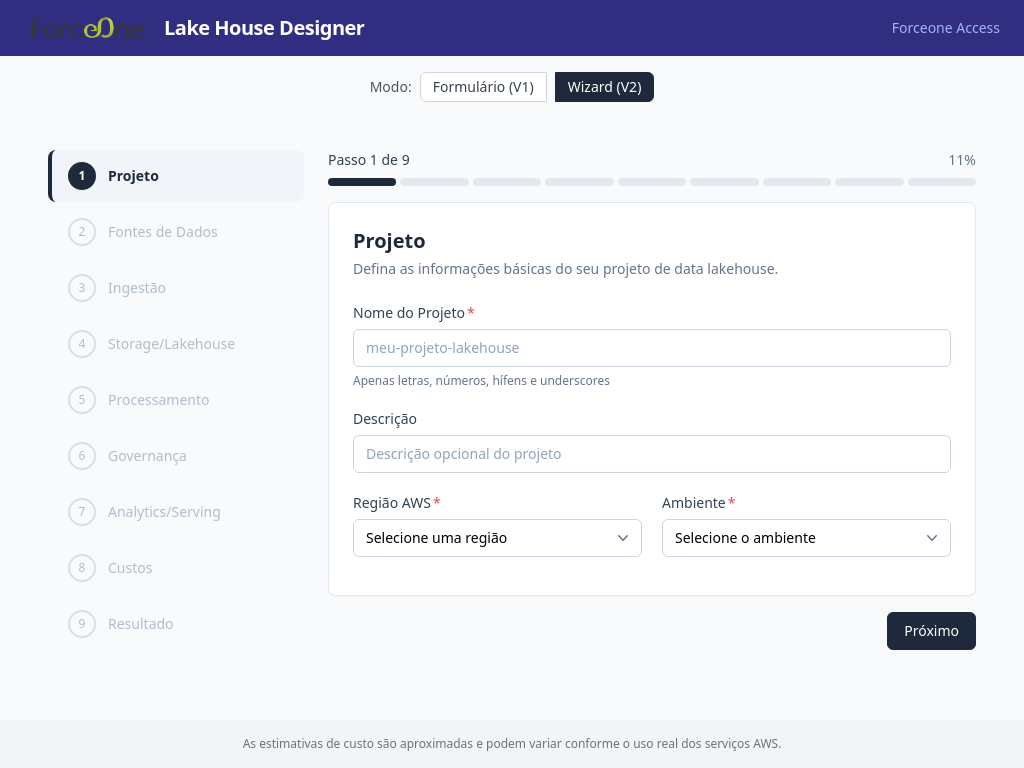
Scenario: App.tsx — Testes de Integração › exibe mensagem de erro de autorização quando API retorna 403
Note: Switch to V1 mode to access the classic form with spinbutton inputs
Click the button "Formulário (V1)" at (483, 87), box x1=420 y1=72 x2=547 y2=102
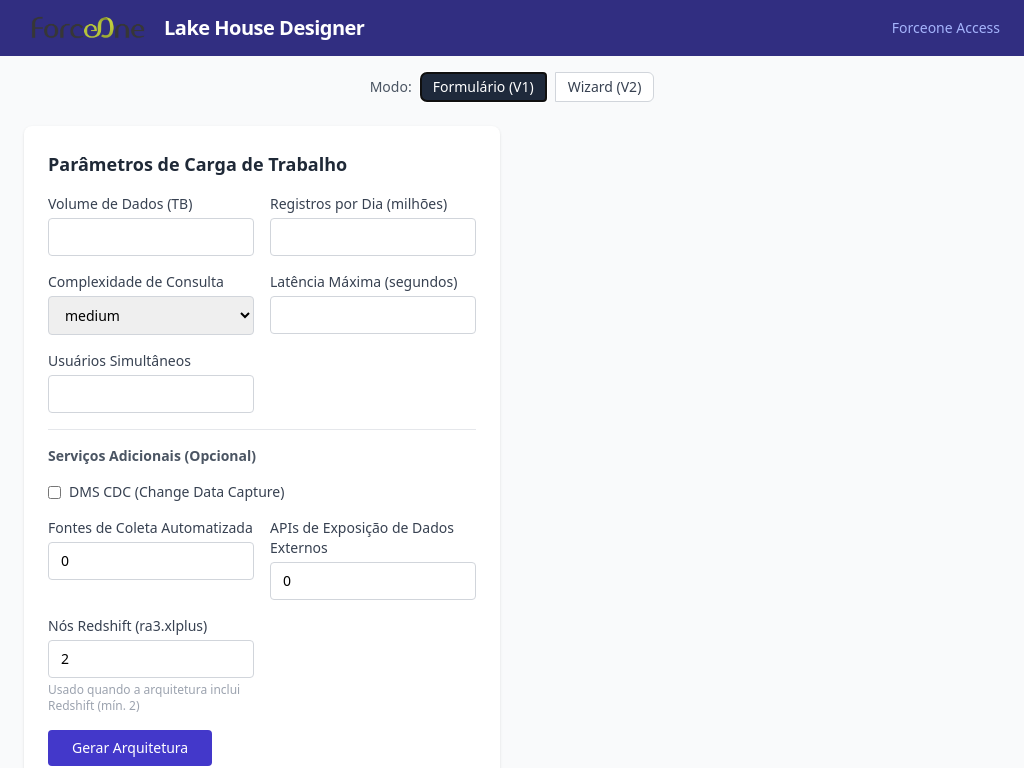
Type "10" into the number field below "Volume de Dados (TB)" at (151, 237), box x1=48 y1=218 x2=254 y2=256
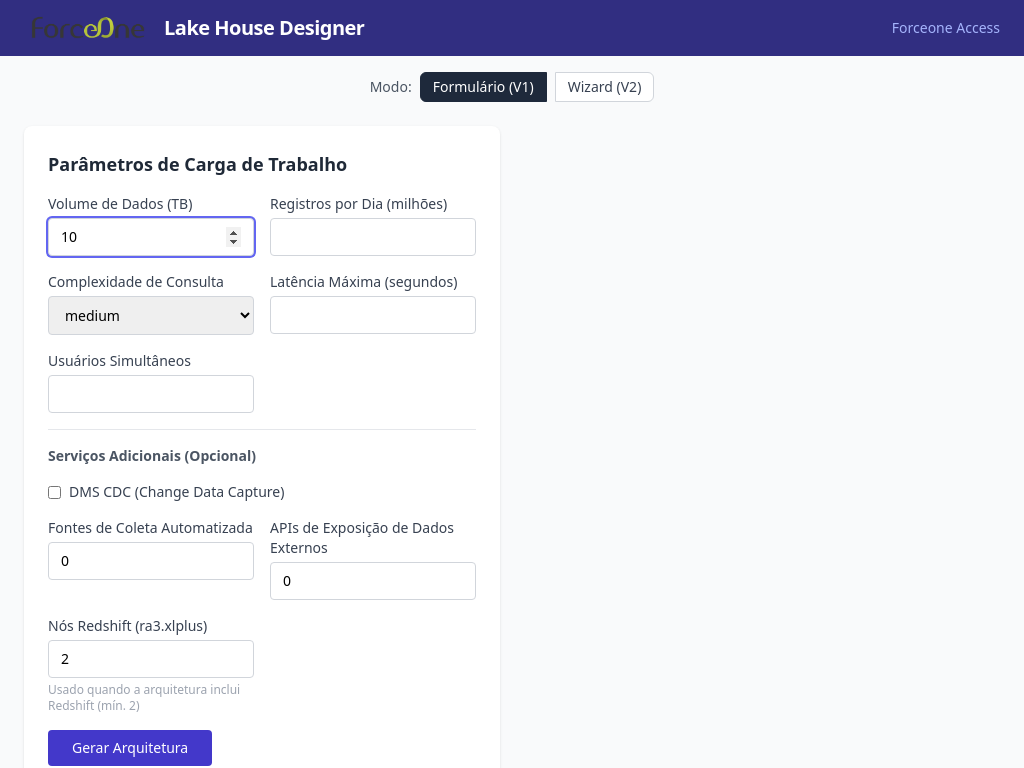
Type "5" into the number field below "Registros por Dia (milhões)" at (373, 237), box x1=270 y1=218 x2=476 y2=256
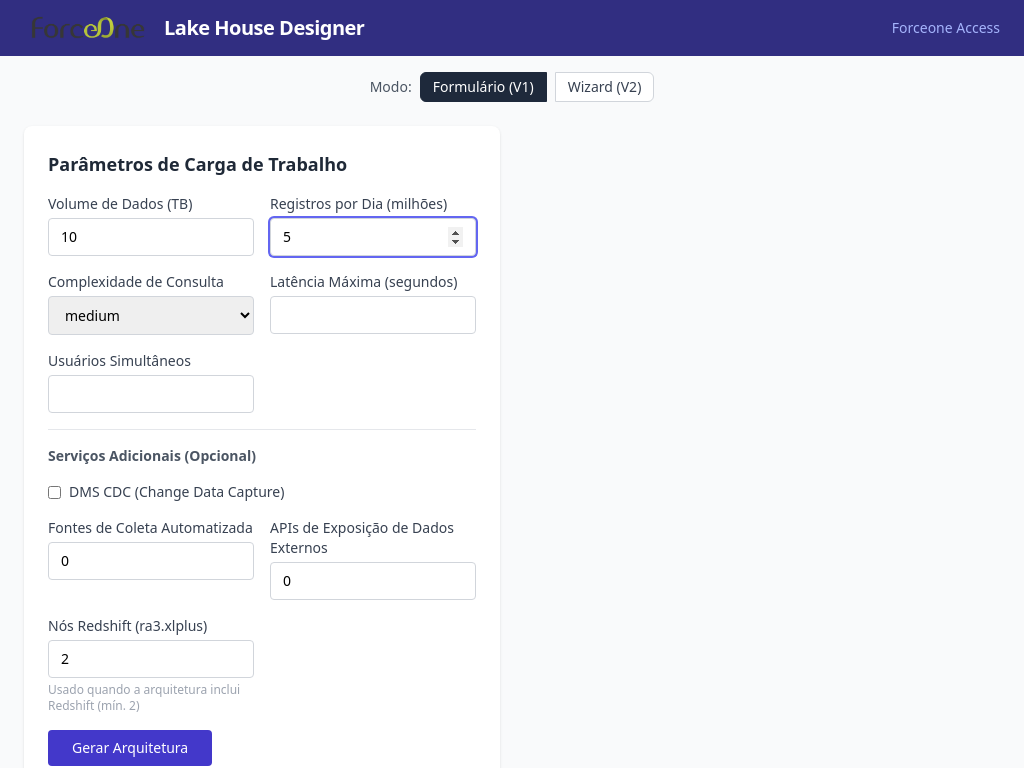
Type "3" into the number field below "Latência Máxima (segundos)" at (373, 315), box x1=270 y1=296 x2=476 y2=334
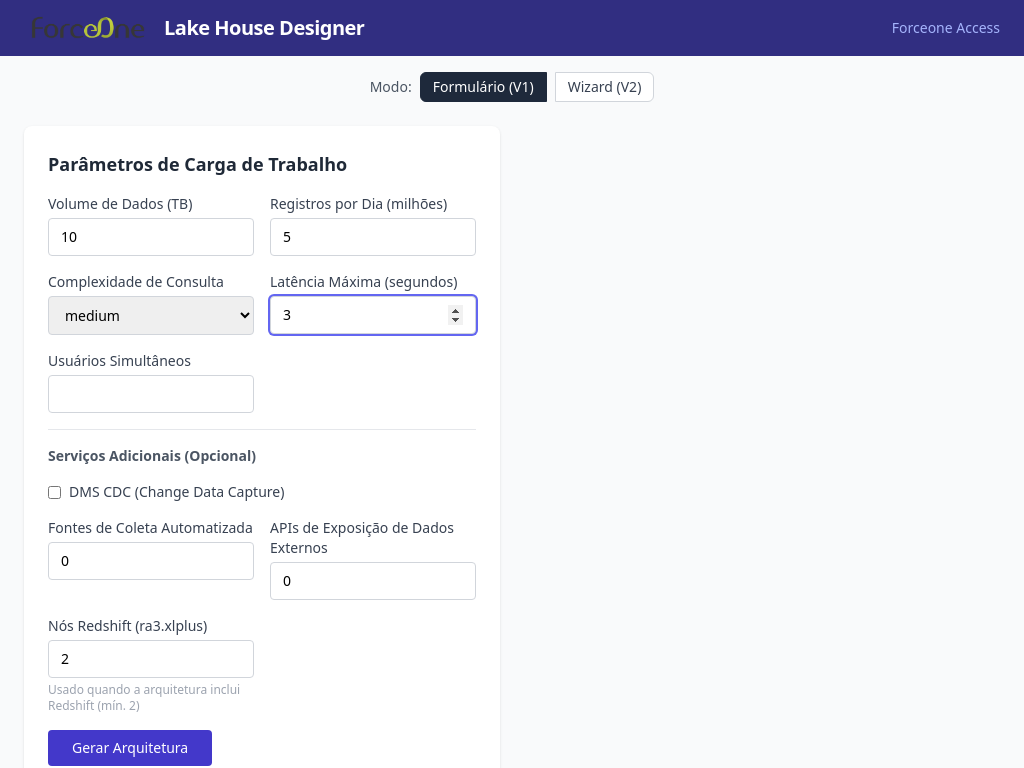
Type "50" into the number field below "Usuários Simultâneos" at (151, 394), box x1=48 y1=375 x2=254 y2=413
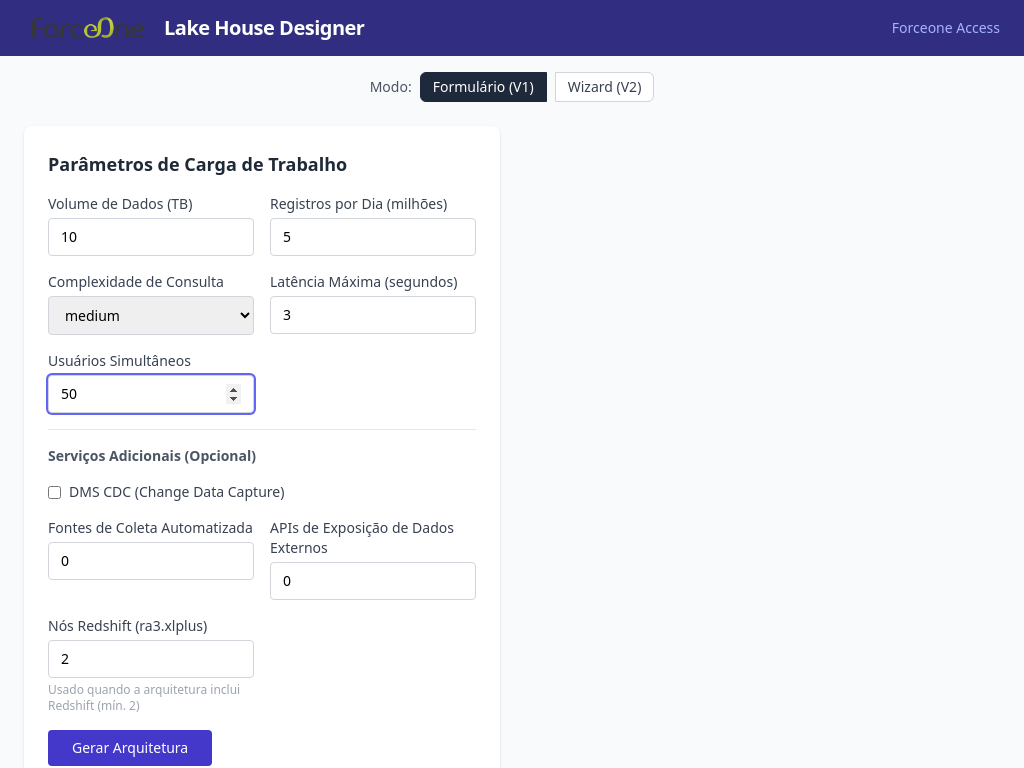
Note: Submeter formulário
Click the button "Gerar Arquitetura" at (130, 748), box x1=48 y1=730 x2=212 y2=766
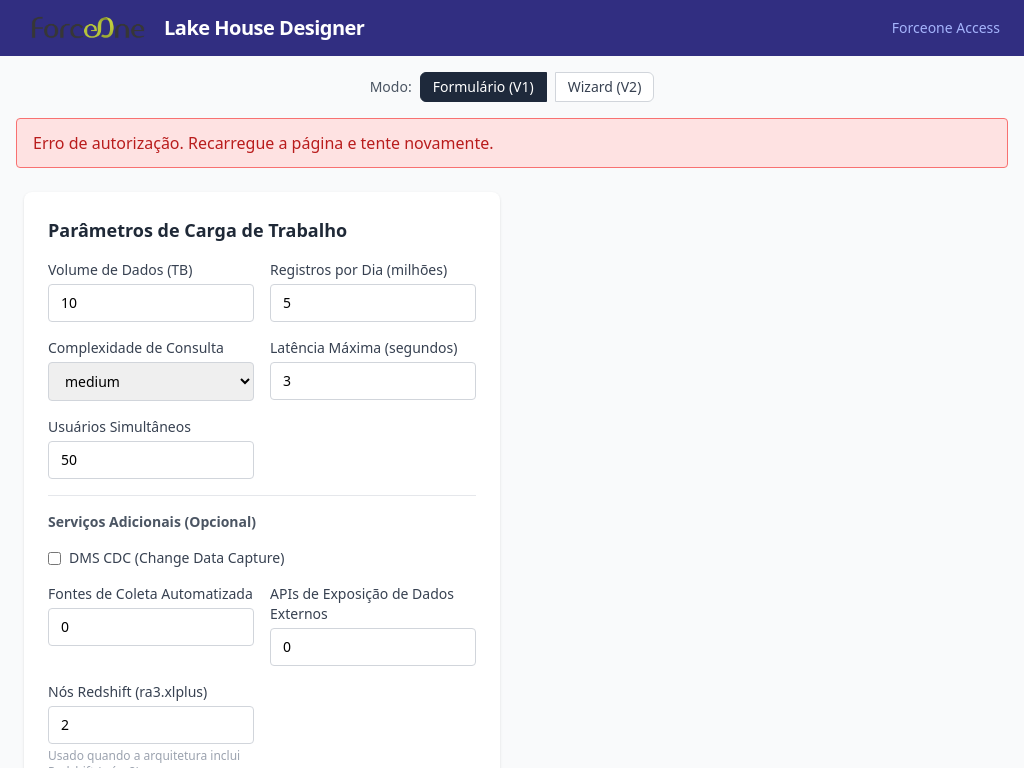
Check: the text "Erro de autorização. Recarregue a página e tente novamente." is shown, box x1=16 y1=118 x2=1008 y2=168
